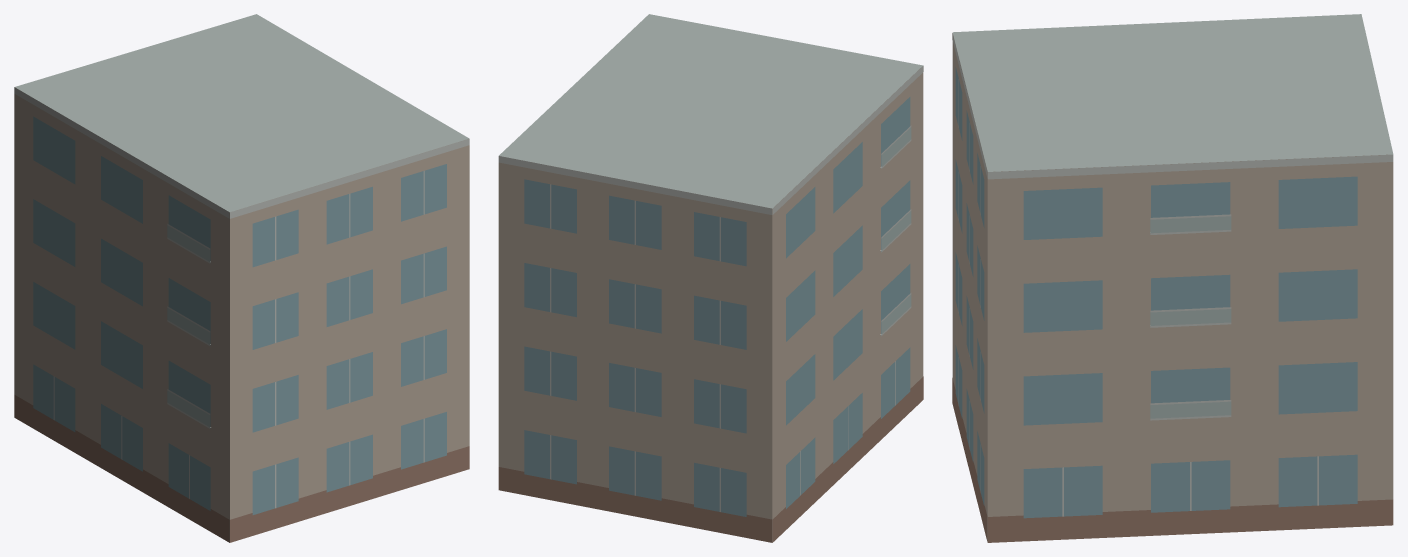
Rendered from survey-upis-32653052.glb.
3 views of the same model, side by side, from view 1: azimuth 30°, elevation 25°; view 2: azimuth 150°, elevation 25°; view 3: azimuth 270°, elevation 25° (orthographic). The views are drawn at different scales.
Parts seen in each view (by area): view 1: survey-upis-32653052.tmp; view 2: survey-upis-32653052.tmp; view 3: survey-upis-32653052.tmp.
Part boxes in pixels (box(x1,y1,x2,y2)): survey-upis-32653052.tmp: box(14, 14, 469, 542); survey-upis-32653052.tmp: box(498, 14, 923, 542); survey-upis-32653052.tmp: box(952, 14, 1393, 542).
Size of the model in its own units: 11.16 by 12.2 by 13.16.
